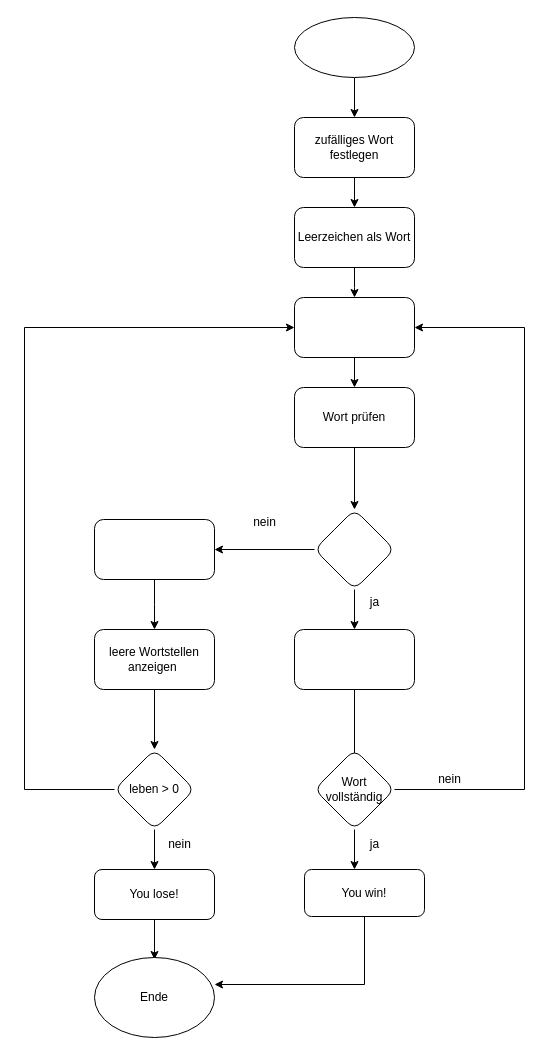
Some shapes in this 550 by 1055 pixel diagram are drawn without their labels. The shapes that lost their labels are listed below. From the top down, each one's centre as x and y in pixels, then its label:
At [354,47]: "Start".
At [354,327]: "Guess a letter".
At [154,549]: "Text + leben abziehen".
At [354,549]: "Buchstabe im Wort".
At [354,659]: "Buchstabe im Wort anzeigen".
